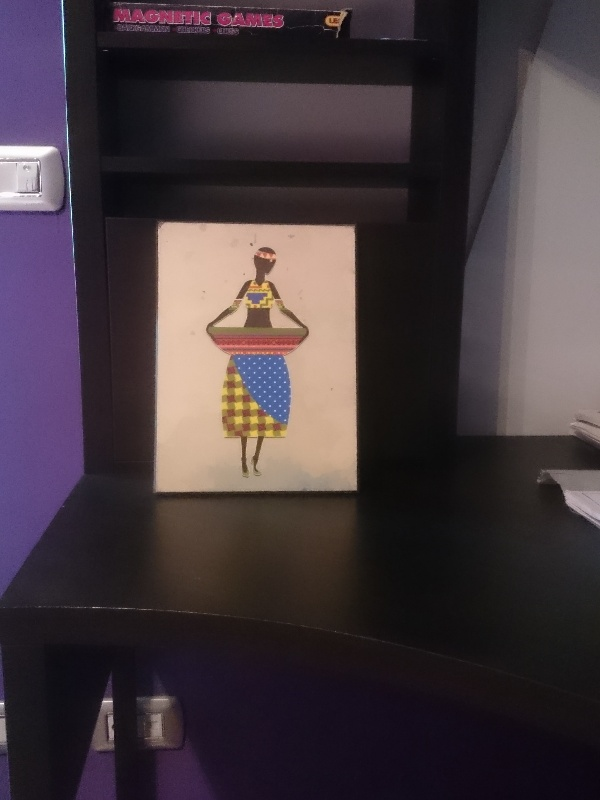my image: (155, 223, 360, 491)
